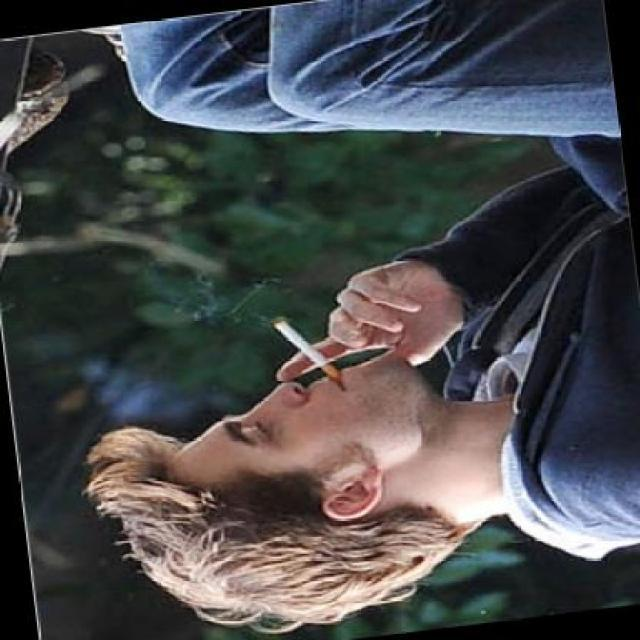rokok: (266, 306, 352, 386)
